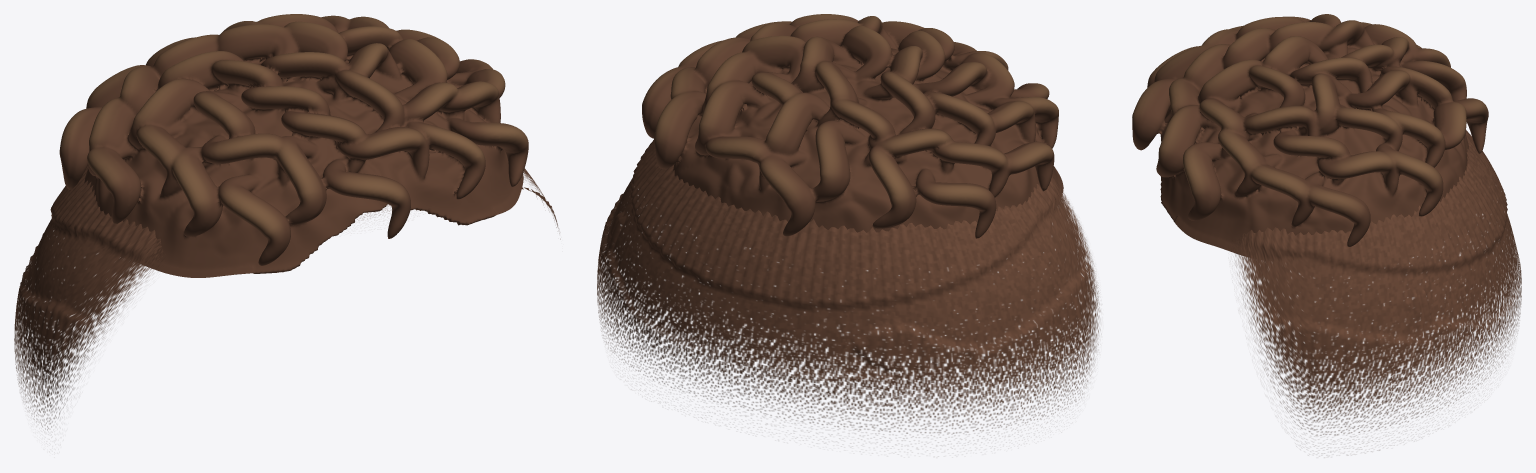
File: Masculine-curly-top-headband256-hair-ombre.glb
The picture shows the model from 3 angles, left to right: view 1: azimuth 30°, elevation 25°; view 2: azimuth 150°, elevation 25°; view 3: azimuth 270°, elevation 25°; orthographic projection. The views are drawn at different scales.
Parts seen in each view (by area): view 1: 226 hair / Hair252 / sculpted curl groups, 226 hair / Hair256 / selected B sides; view 2: 226 hair / Hair256 / selected B sides, 226 hair / Hair252 / sculpted curl groups; view 3: 226 hair / Hair252 / sculpted curl groups, 226 hair / Hair256 / selected B sides.
Boxes of the visible parts, <box> form: 226 hair / Hair252 / sculpted curl groups: <box>59,14,528,277</box>; 226 hair / Hair256 / selected B sides: <box>14,165,560,430</box>; 226 hair / Hair256 / selected B sides: <box>597,140,1100,442</box>; 226 hair / Hair252 / sculpted curl groups: <box>642,14,1063,238</box>; 226 hair / Hair252 / sculpted curl groups: <box>1132,14,1488,257</box>; 226 hair / Hair256 / selected B sides: <box>1232,130,1521,453</box>.
Bounding box in the file's own units: 0.972 × 0.665 × 0.7498.
2 materials, 1 textured.
